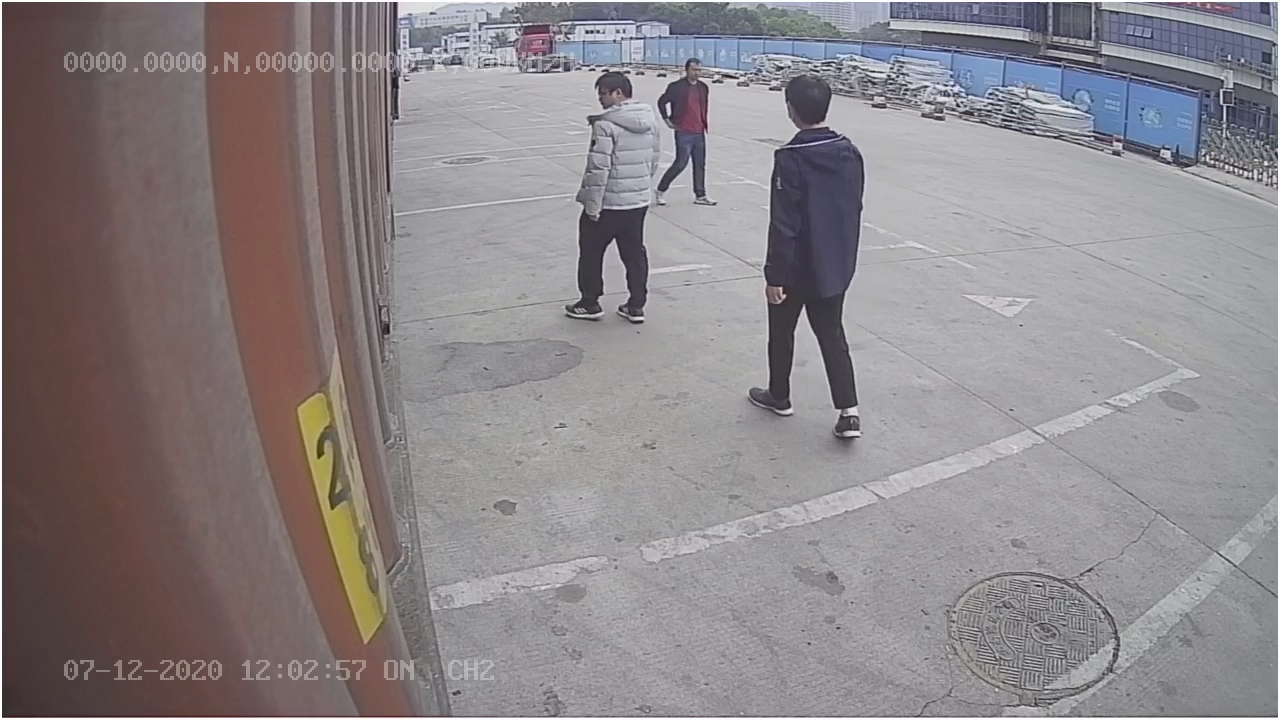person: (747, 73, 875, 442)
